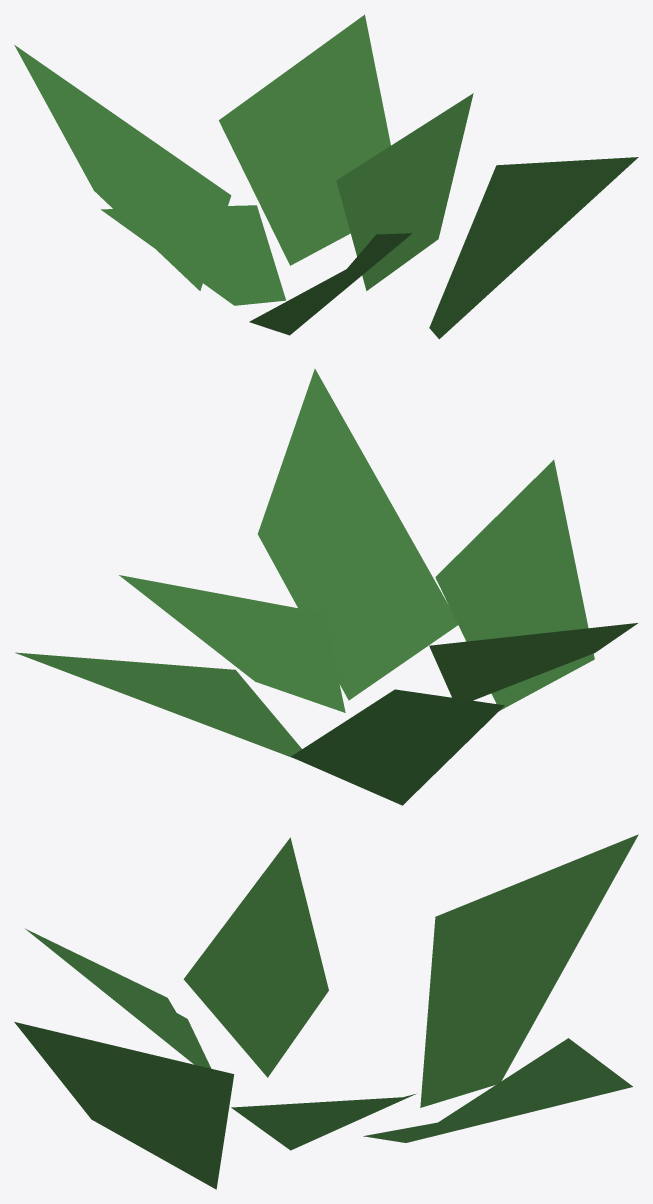
Rendered from cabbage_stage_1.glb.
3 views of the same model, one above another, from view 1: azimuth 30°, elevation 25°; view 2: azimuth 150°, elevation 25°; view 3: azimuth 270°, elevation 25° (orthographic). The views are drawn at different scales.
Parts seen in each view (by area): view 1: Plane.001; view 2: Plane.001; view 3: Plane.001.
Part boxes in pixels (x1,y1,x2,y2): Plane.001: [14, 14, 638, 339]; Plane.001: [15, 369, 637, 805]; Plane.001: [14, 834, 638, 1189].
Size of the model in its own units: 0.8373 by 0.3917 by 0.9466.
